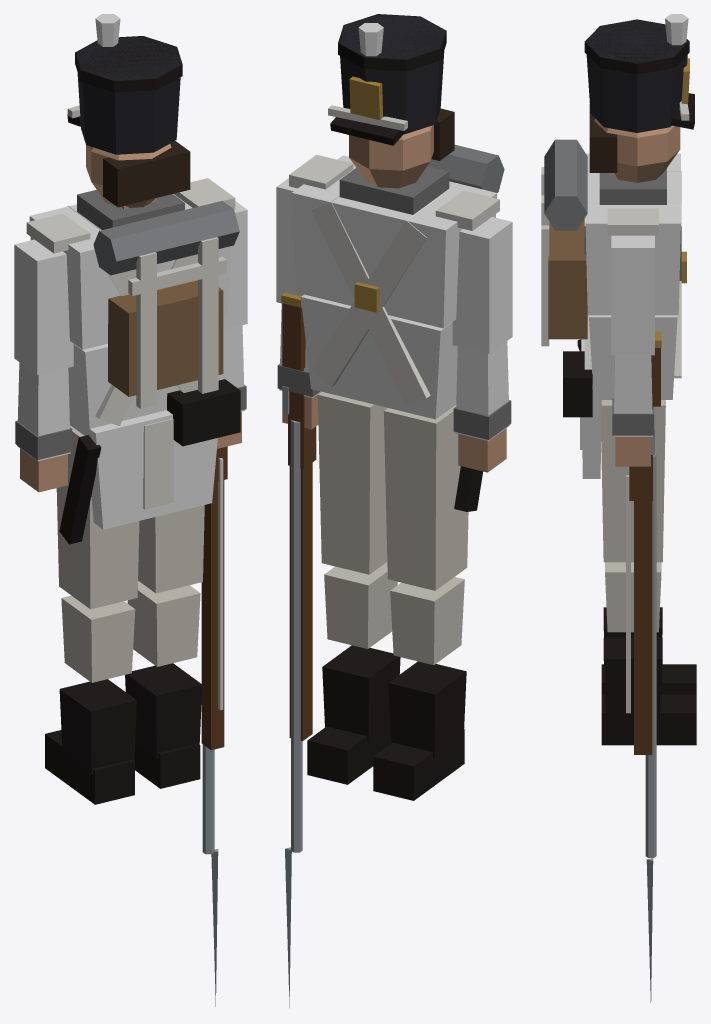
Rendered from soldier_c19_line_lod0.glb.
3 renders of one model, left to right at view 1: azimuth 30°, elevation 25°; view 2: azimuth 150°, elevation 25°; view 3: azimuth 270°, elevation 25°, orthographic. The views are drawn at different scales.
Parts seen in each view (by area): view 1: c19_line_lod0_static; view 2: c19_line_lod0_static; view 3: c19_line_lod0_static.
Boxes of the visible parts, <box> form: c19_line_lod0_static: <box>14,14,247,1006</box>; c19_line_lod0_static: <box>276,14,512,1007</box>; c19_line_lod0_static: <box>541,14,696,1002</box>.
Bounding box in the file's own units: 0.58 × 2.64 × 0.392.
